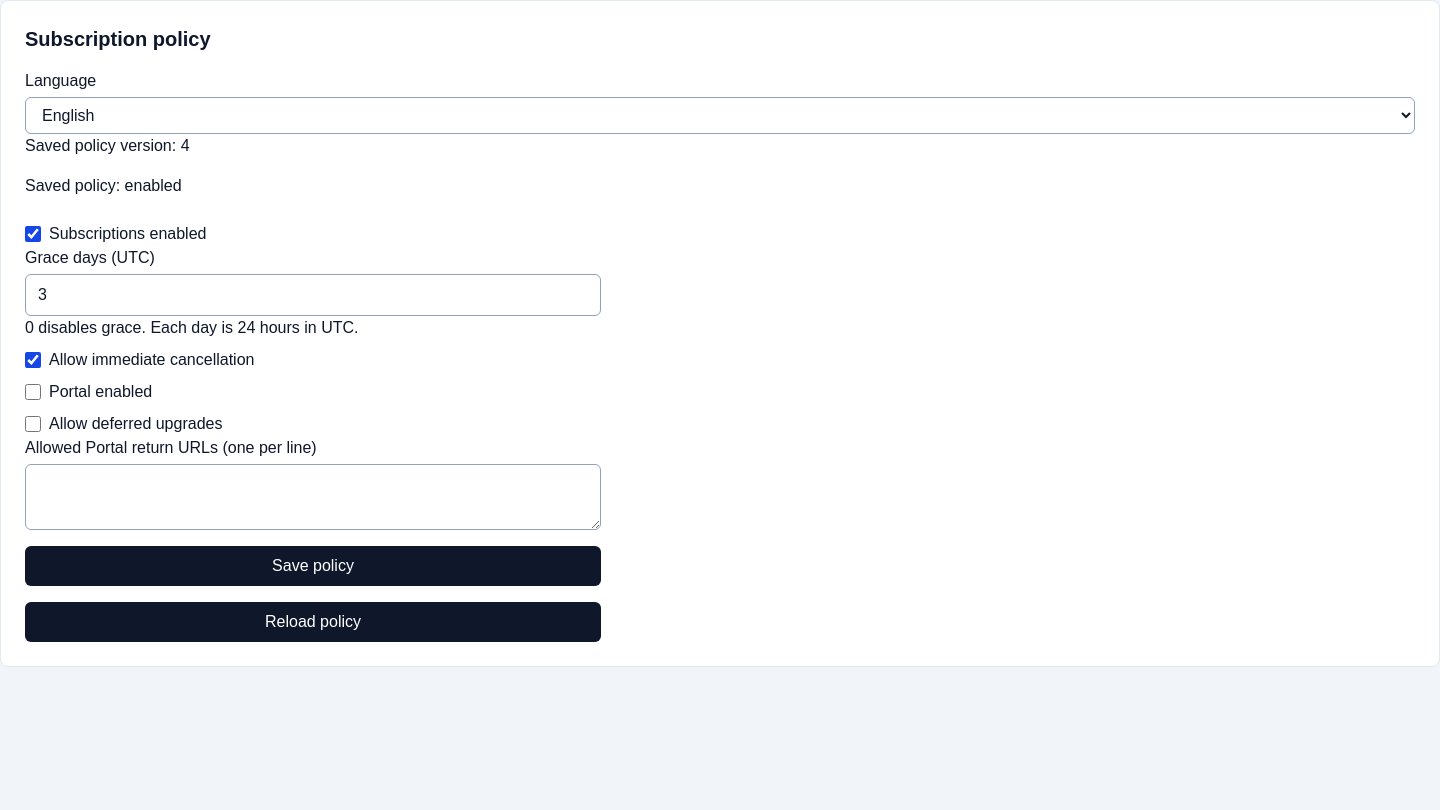
Scenario: sends the exact policy version and retains saved enabled state after the disable guard
Check: the text "Saved policy version: 4" is shown, box [25,137,190,154]
Click the checkbox labelled "Subscriptions enabled" at (33, 234), box [25,226,41,242]
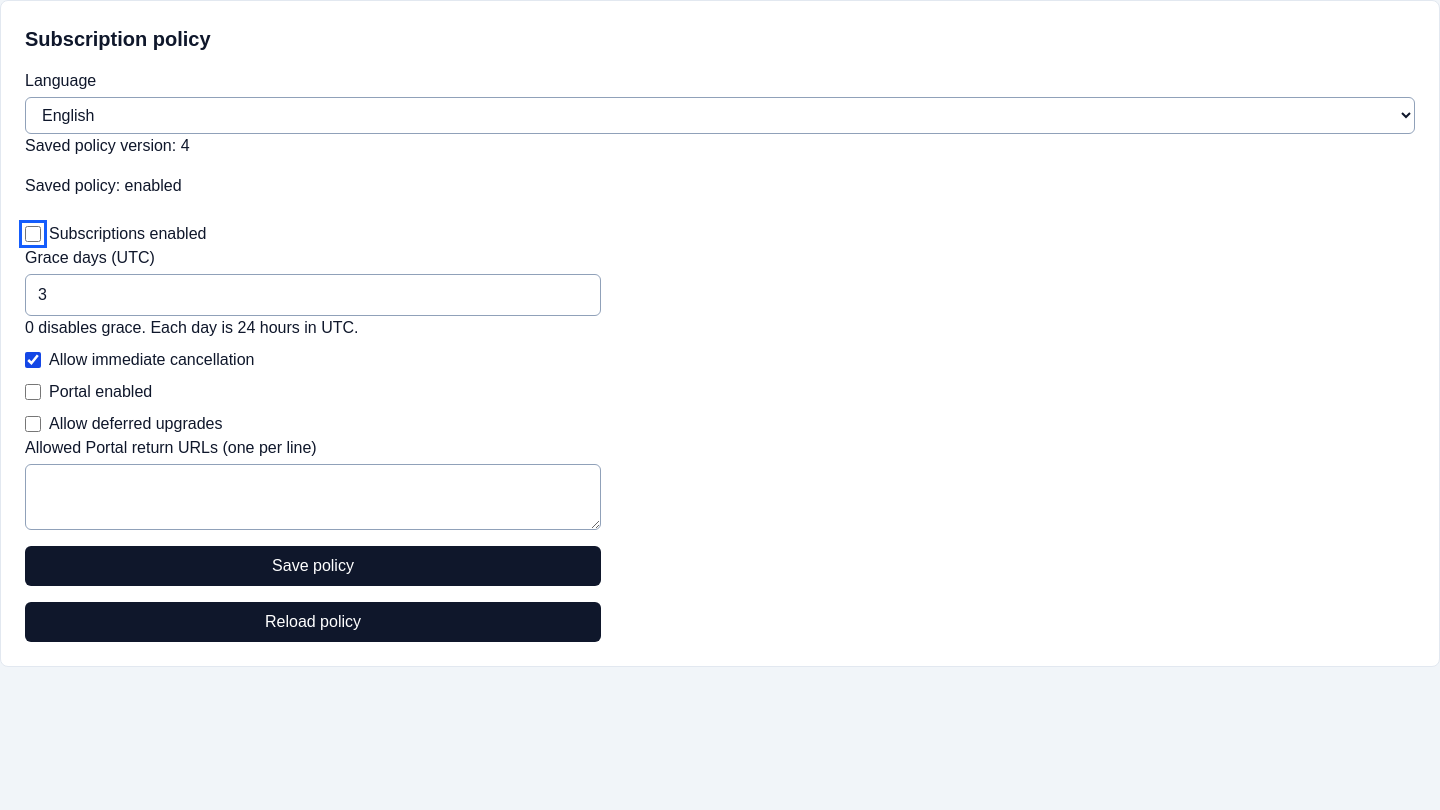
Click the button "Save policy" at (313, 566), box [25,546,601,586]
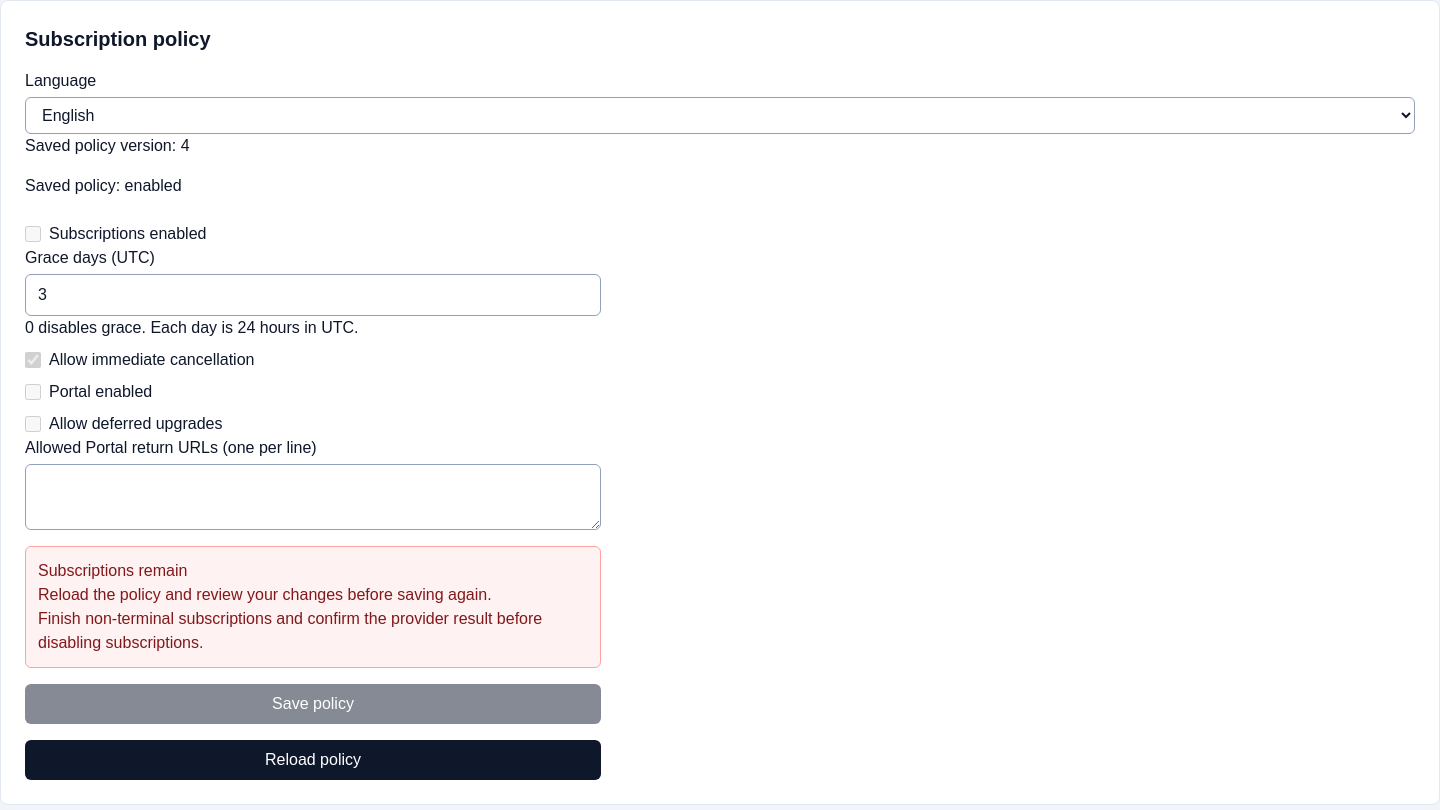
Check: the text "Saved policy: enabled" is shown, box [25,177,182,194]
Check: the message shows "Finish non-terminal subscriptions", box [38,610,542,651]
